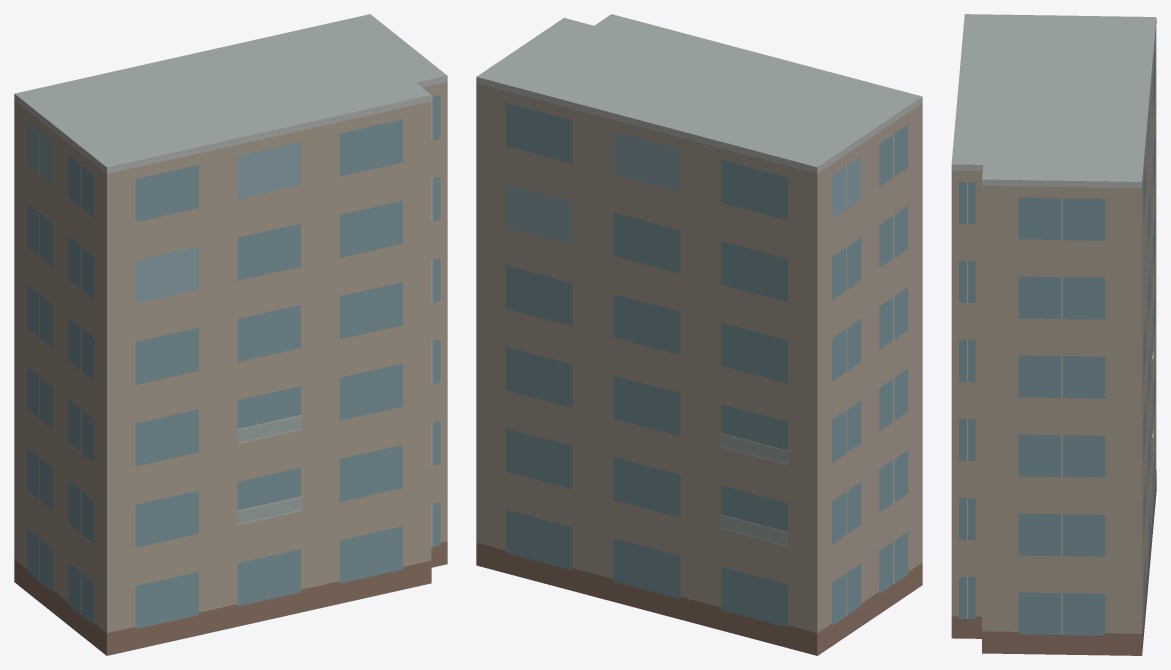
Rendered from survey-upis-32678406.glb.
The picture shows the model from 3 angles, left to right: view 1: azimuth 30°, elevation 25°; view 2: azimuth 150°, elevation 25°; view 3: azimuth 270°, elevation 25°; orthographic projection. The views are drawn at different scales.
Parts seen in each view (by area): view 1: survey-upis-32678406.tmp; view 2: survey-upis-32678406.tmp; view 3: survey-upis-32678406.tmp.
Boxes of the visible parts, bbox=[...] form: survey-upis-32678406.tmp: bbox=[14, 14, 447, 655]; survey-upis-32678406.tmp: bbox=[476, 14, 922, 655]; survey-upis-32678406.tmp: bbox=[951, 14, 1156, 655].
Size of the model in its own units: 13.92 by 18.3 by 7.18.
